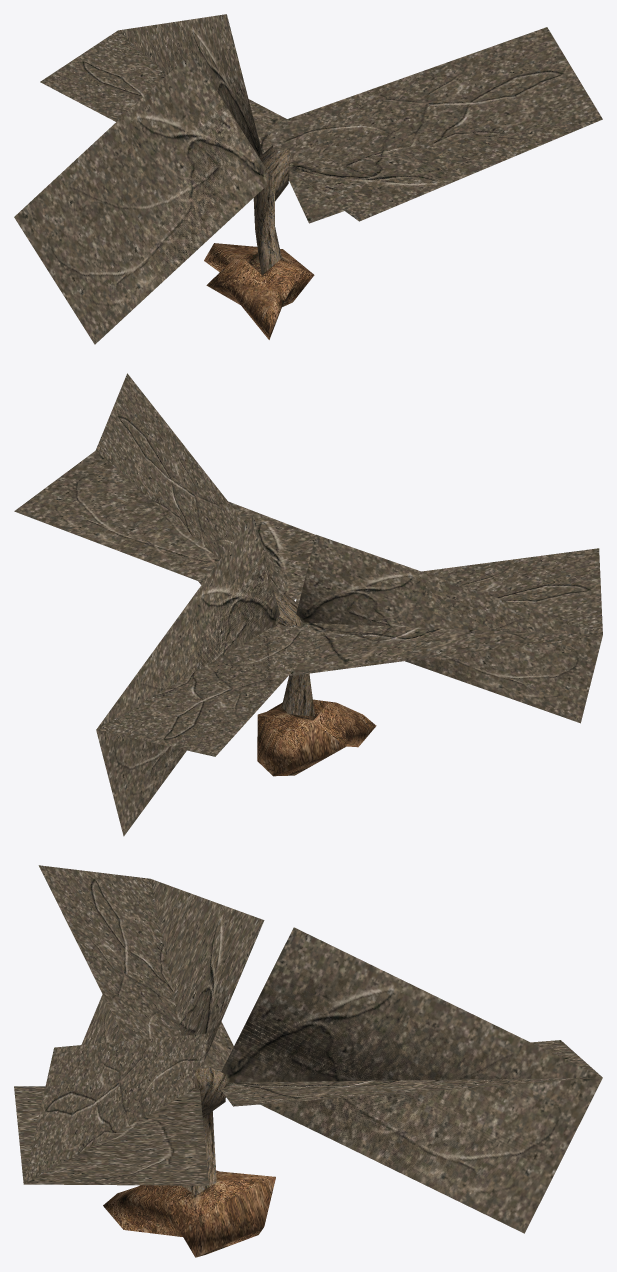
Rendered from shrb_dath_remmy_l1.fbx.
3 views of the same model, one above another, from view 1: azimuth 30°, elevation 25°; view 2: azimuth 150°, elevation 25°; view 3: azimuth 270°, elevation 25° (orthographic). The views are drawn at different scales.
Visible parts, largest first — view 1: mesh_node; view 2: mesh_node; view 3: mesh_node.
Part boxes in pixels (bbox=[...]): mesh_node: bbox=[14, 14, 602, 344]; mesh_node: bbox=[14, 373, 602, 836]; mesh_node: bbox=[14, 865, 602, 1257].
Size of the model in its own units: 4.36 by 2.19 by 3.47.
